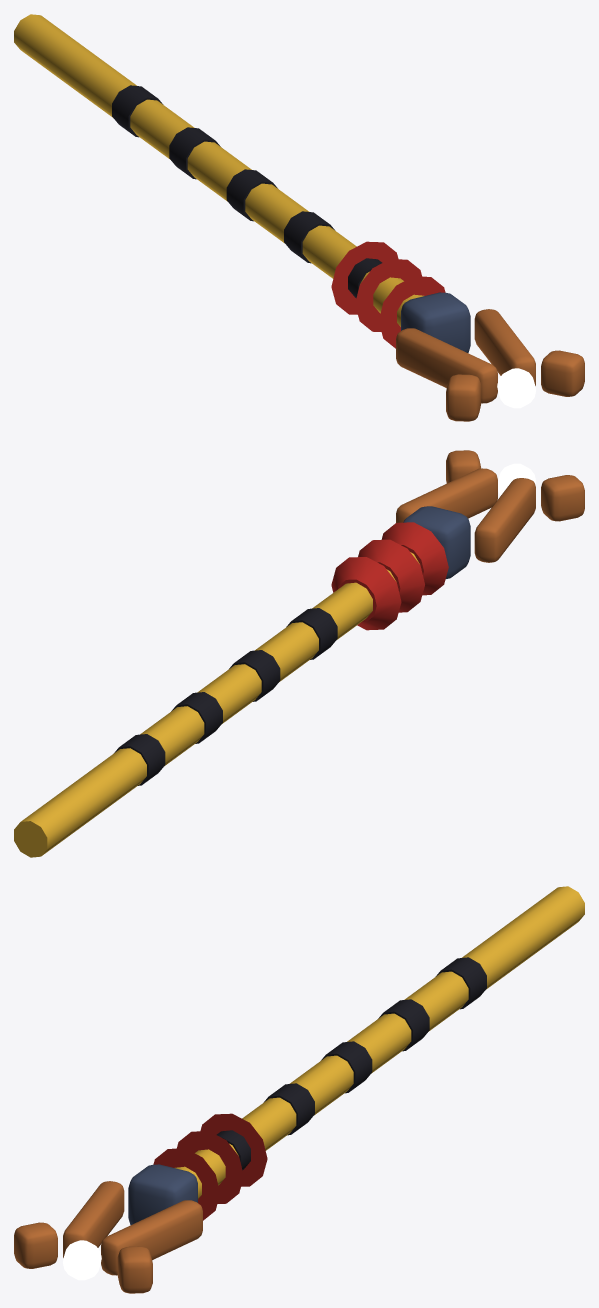
Rendered from pince_catenaire.glb.
3 renders of one model, top to bottom at view 1: azimuth 30°, elevation 25°; view 2: azimuth 150°, elevation 25°; view 3: azimuth 330°, elevation 25°, orthographic.
Visible parts, largest first — view 1: pince_catenaire_mesh; view 2: pince_catenaire_mesh; view 3: pince_catenaire_mesh.
Boxes of the visible parts, <box> form: pince_catenaire_mesh: <box>14,14,584,421</box>; pince_catenaire_mesh: <box>14,450,584,857</box>; pince_catenaire_mesh: <box>14,886,584,1293</box>.
Bounding box in the file's own units: 0.2336 × 0.1201 × 1.47.
